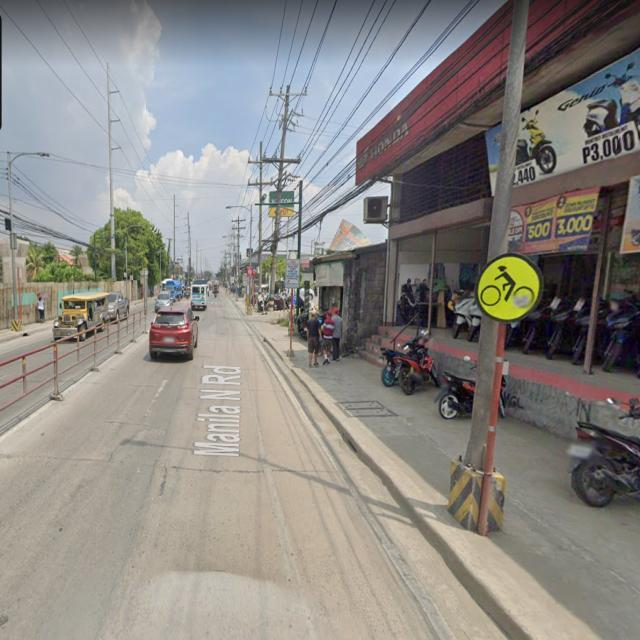bike lane: (463, 234, 548, 347)
